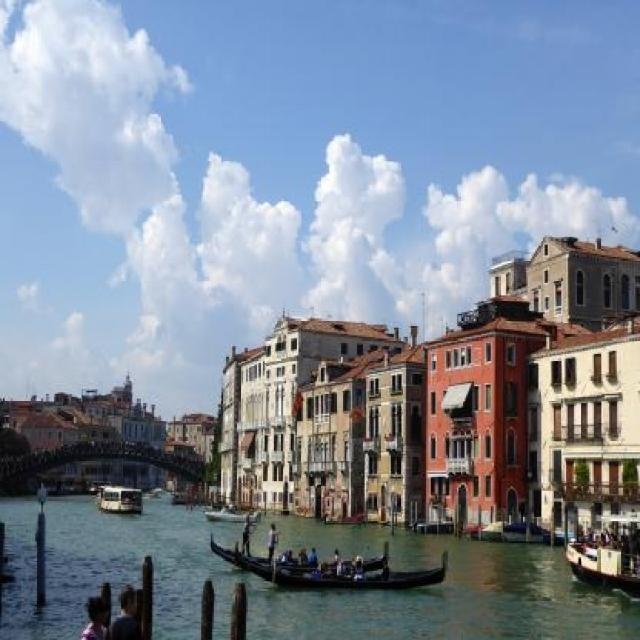ship: (234, 542, 448, 590), (208, 532, 389, 574), (566, 534, 640, 598), (95, 483, 143, 515), (503, 519, 549, 543), (202, 505, 260, 523), (478, 515, 508, 540), (409, 517, 454, 532), (322, 511, 364, 524)
